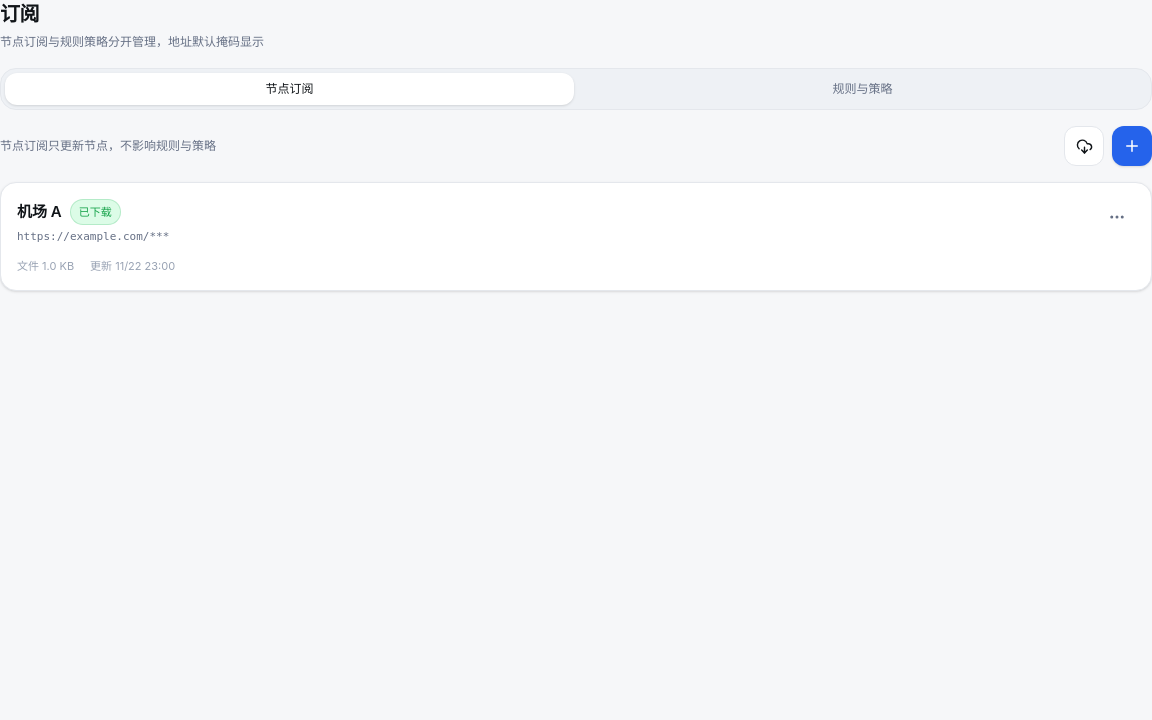
SubscriptionsPage › disables a subscription from the action menu
Later steps or results of the test are not shown.
Expected: the heading "机场 A" is shown, [17,201,62,223]
Click the button named "更多操作". click: (1117, 217)
box: [1099,199,1135,235]
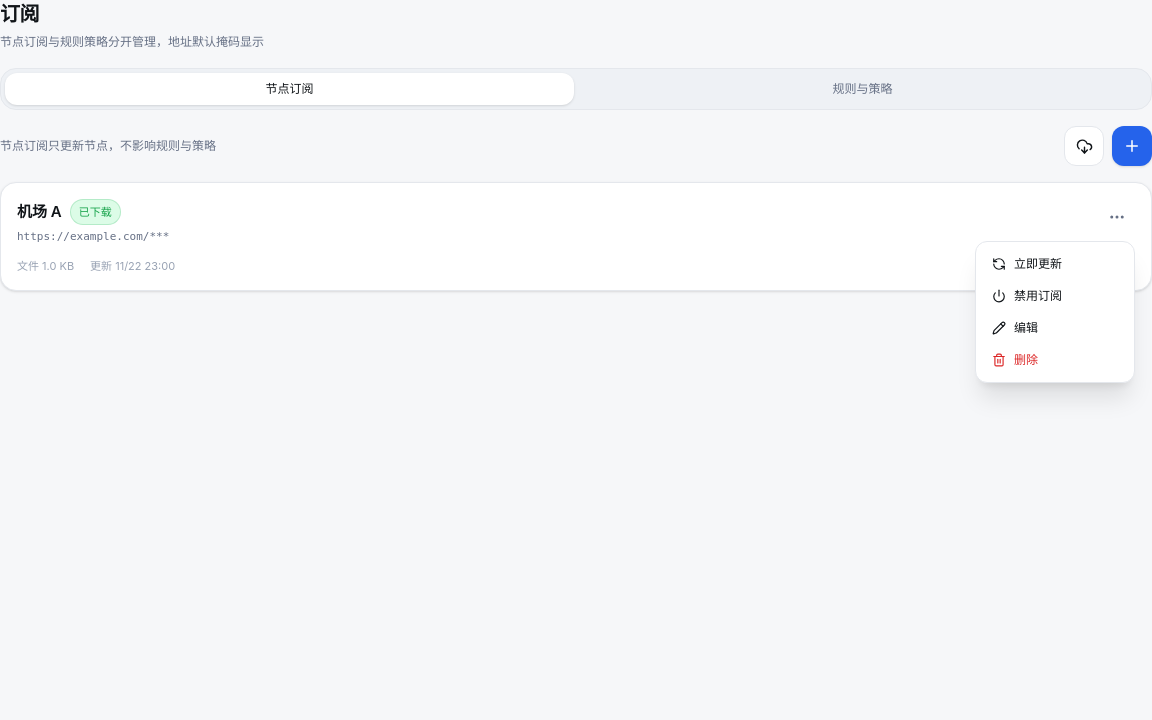
Click the menu item "禁用订阅". click: (1027, 296)
box: [992,288,1062,303]
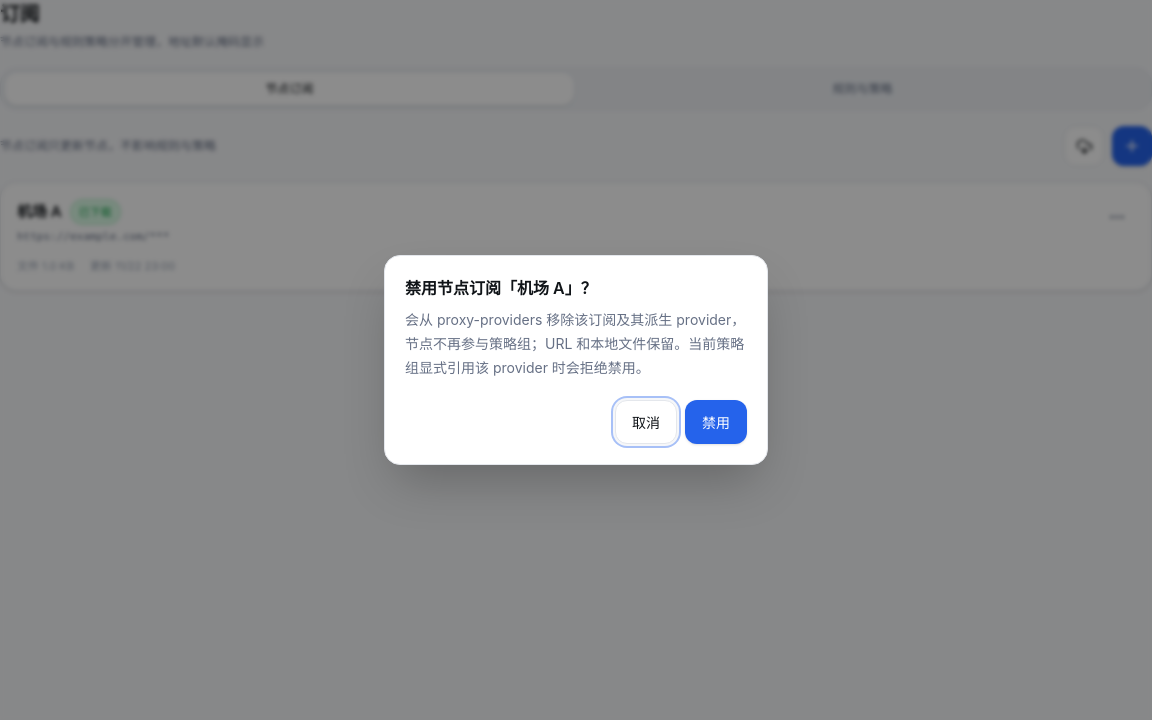
Now the heading "禁用节点订阅「机场 A」？" is shown, box [405,278,597,298]
